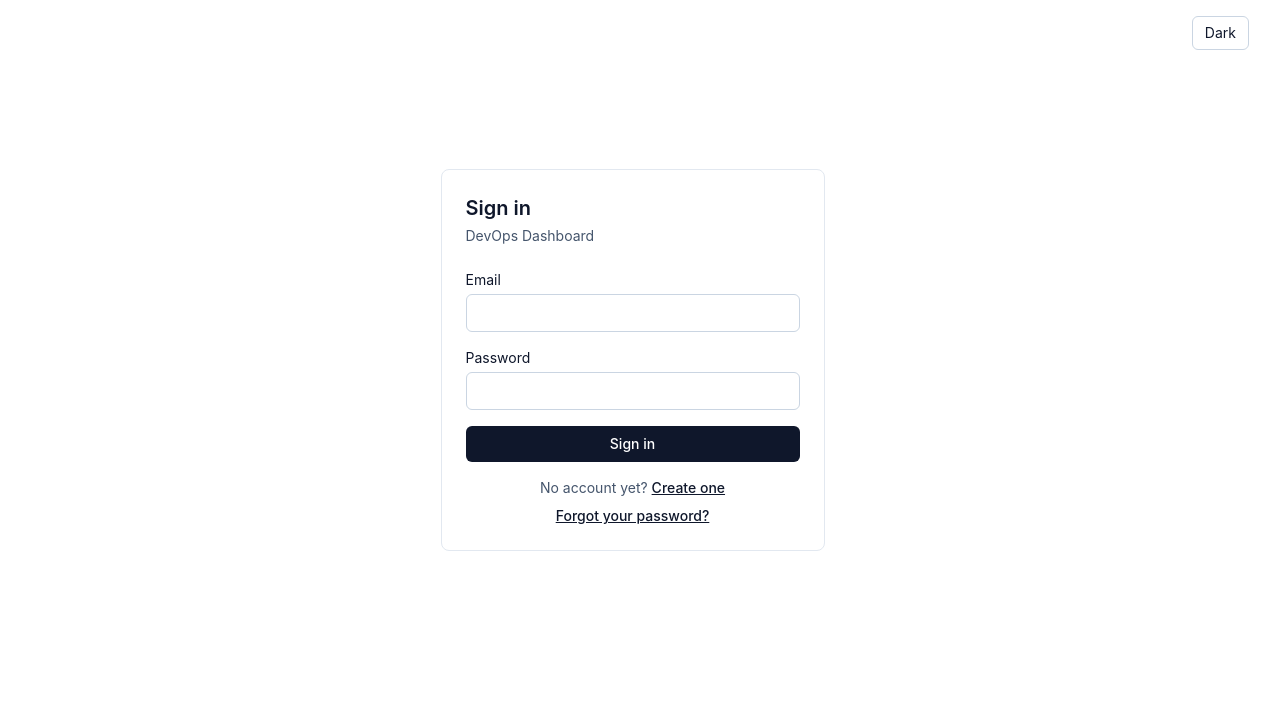
Test: authentication flow › sends anonymous users to the login page, then back to the page they asked for
The image size is (1280, 720).
expect the heading "Sign in" is shown: met, box [466,196,531,220]
Type "demo@example.com" into the field labelled "Email" at (632, 313), box [466,294,800,332]
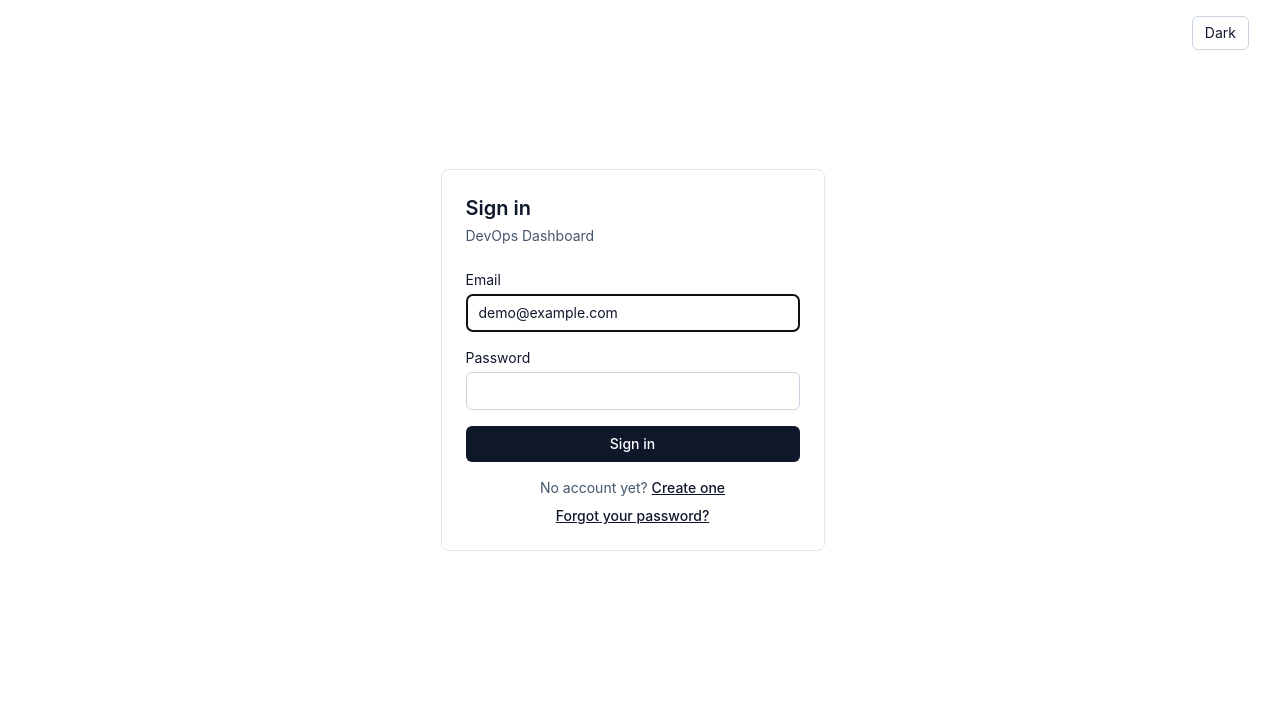
Type "demo-password" into the password field labelled "Password" at (632, 391), box [466,372,800,410]
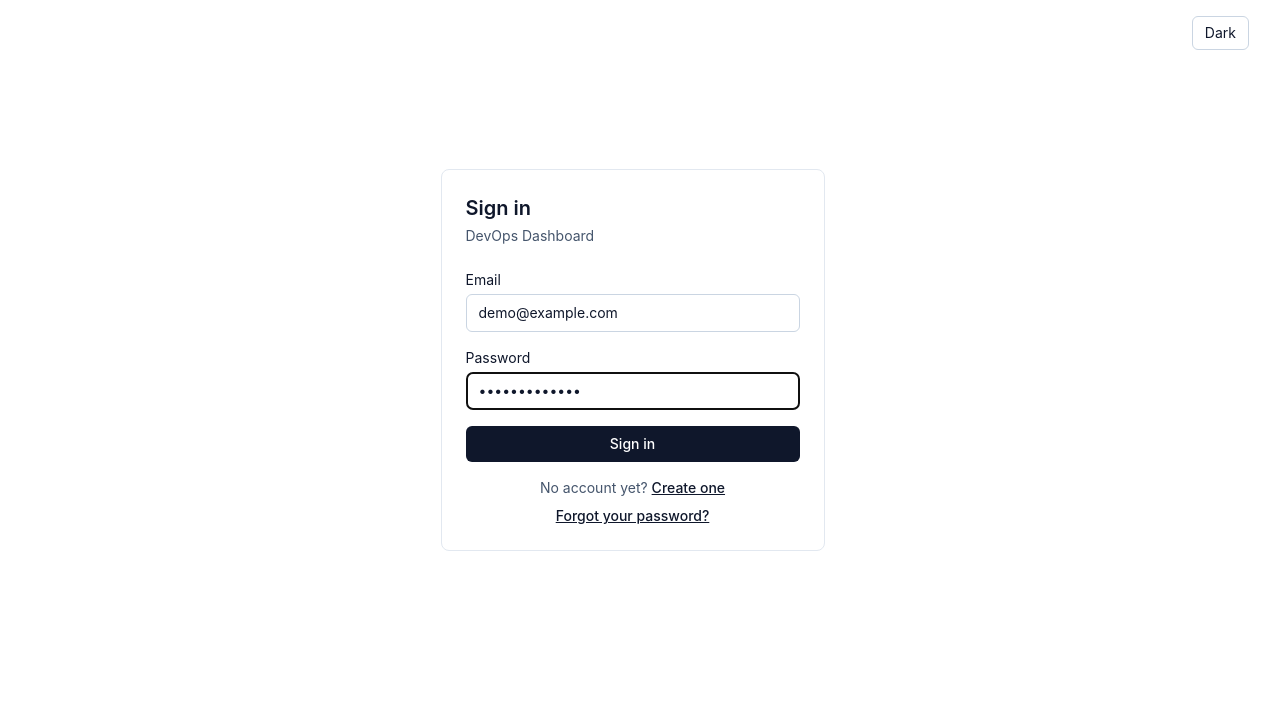
Click the button "Sign in" at (632, 444), box [466,426,800,462]
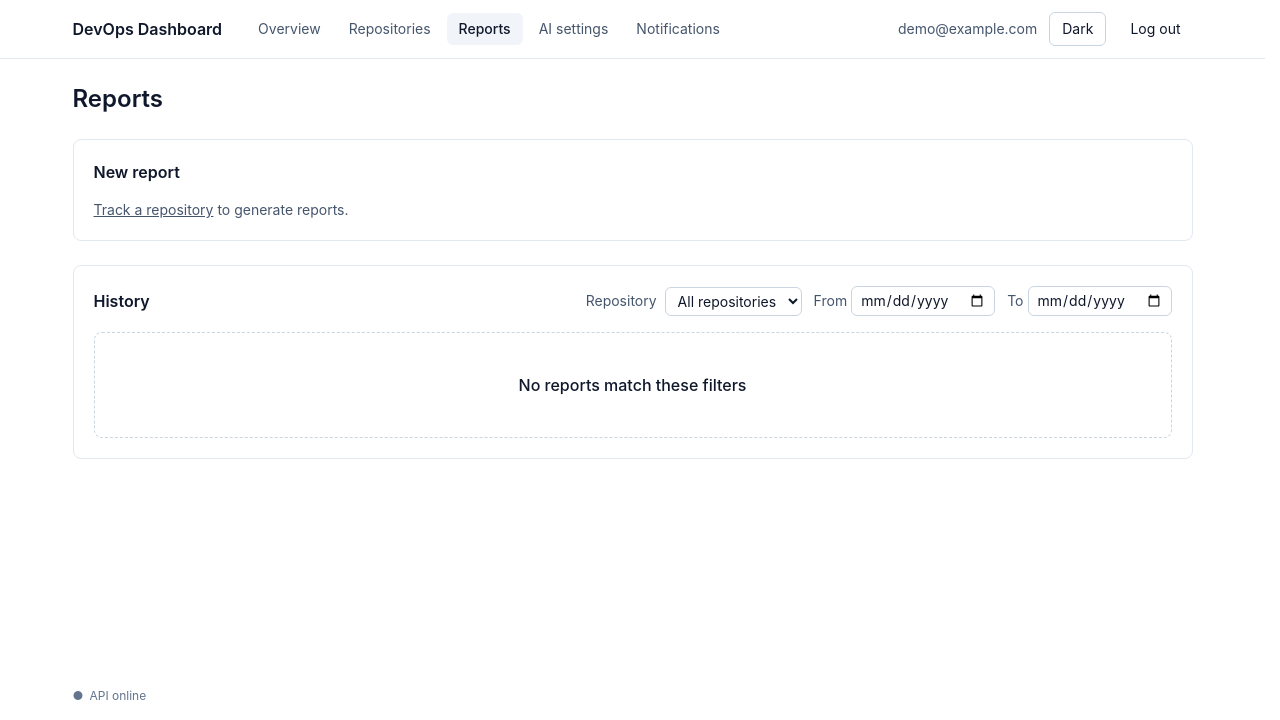
expect the heading "Reports" is shown: met, box [72,84,163,113]
